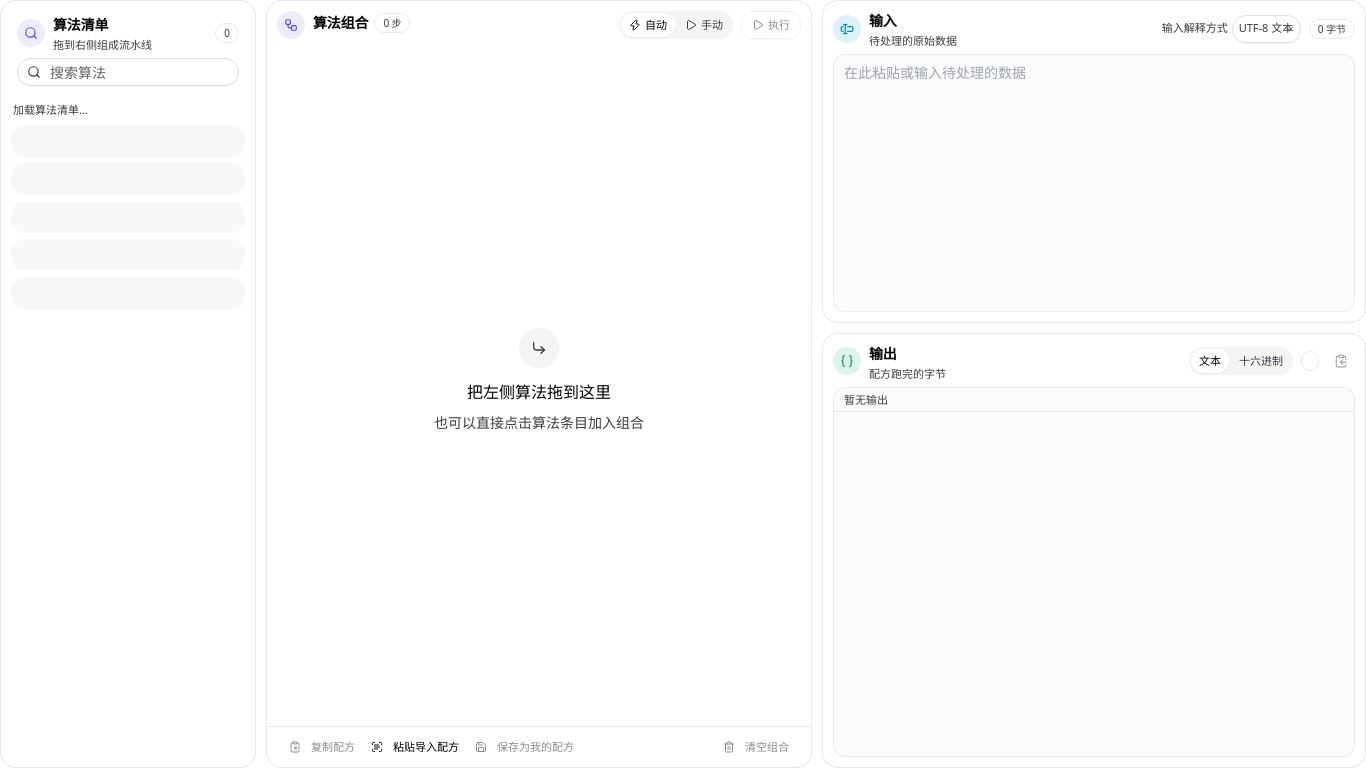
it: 清单默认折叠 › 搜索时自动展开：搜到就该看见条目
Type "md5" into the field named "算法清单搜索框" at x=128, y=72, box [17,58,239,86]
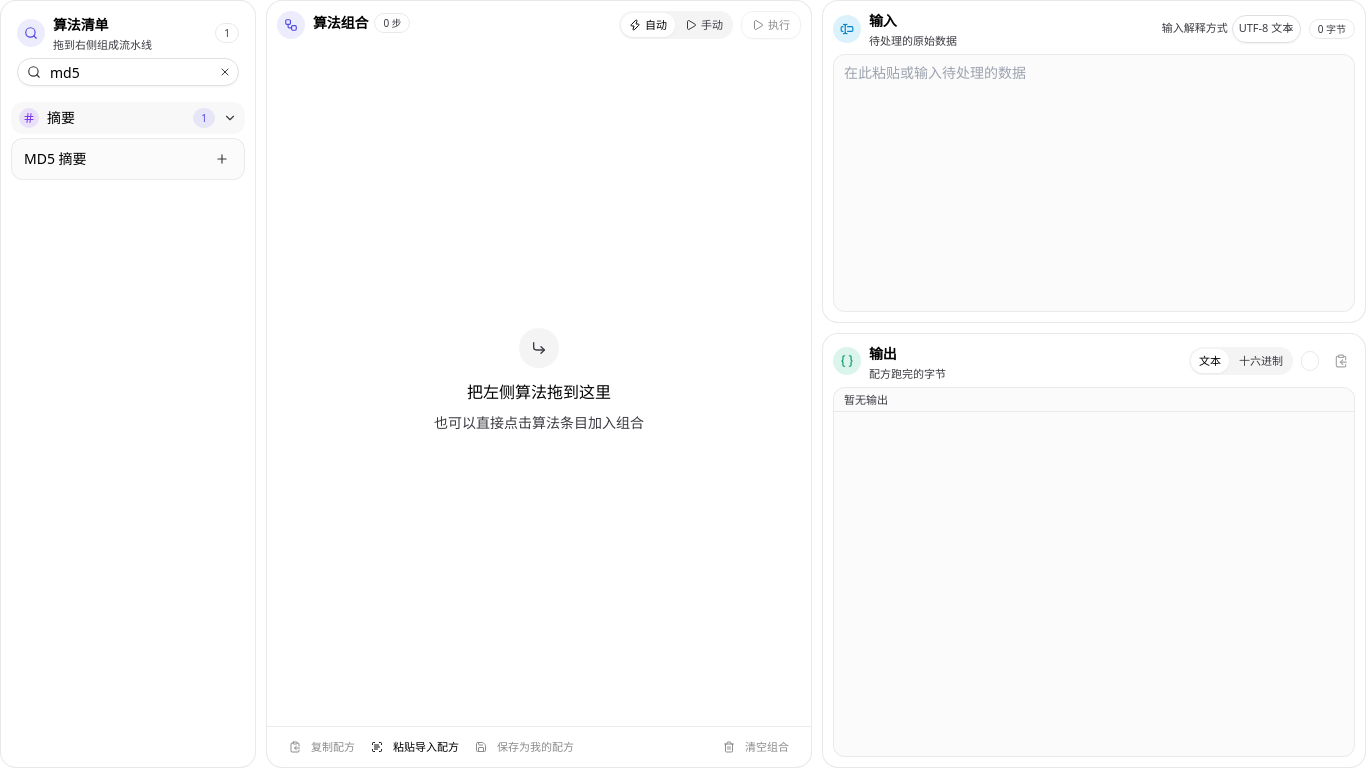
Expected: the text "MD5 摘要" is shown, [24,149,87,168]
